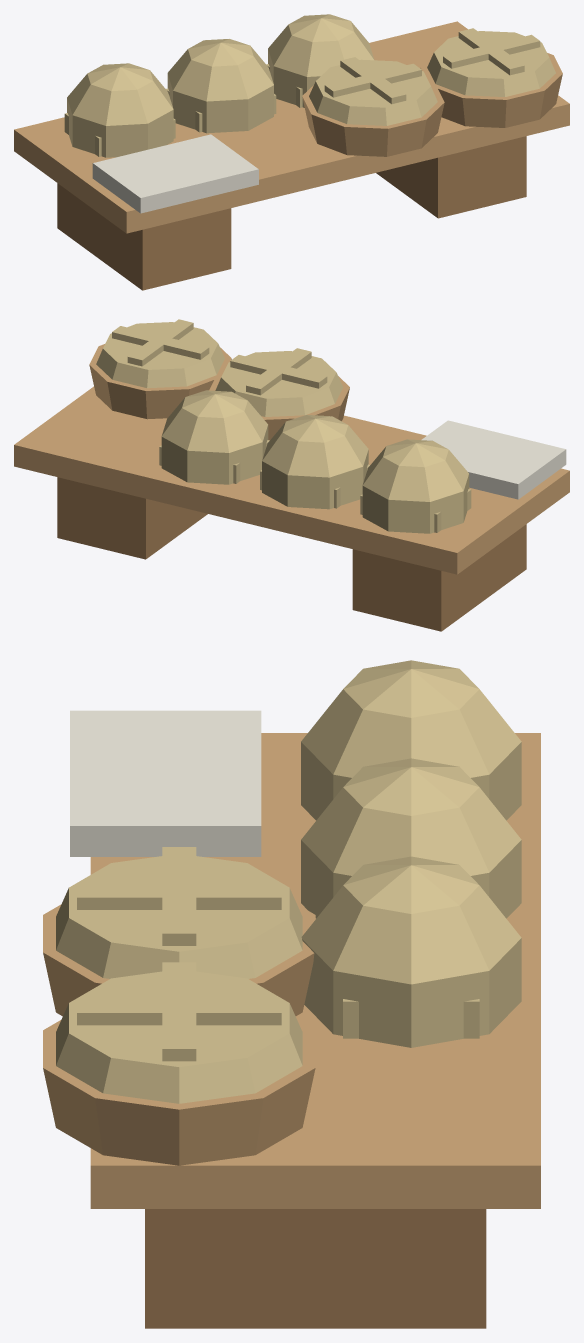
Rendered from bread-and-pie-.glb.
3 views of the same model, one above another, from view 1: azimuth 30°, elevation 25°; view 2: azimuth 150°, elevation 25°; view 3: azimuth 270°, elevation 25° (orthographic). The views are drawn at different scales.
Visible parts, largest first — view 1: bread-and-pie-board; view 2: bread-and-pie-board; view 3: bread-and-pie-board.
Boxes of the visible parts, <box> form: bread-and-pie-board: <box>14,14,569,290</box>; bread-and-pie-board: <box>14,319,569,631</box>; bread-and-pie-board: <box>43,660,540,1328</box>.
Size of the model in its own units: 1.52 by 0.53 by 0.7296.
